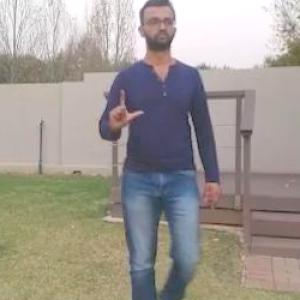land_hand: (102, 84, 148, 137)
